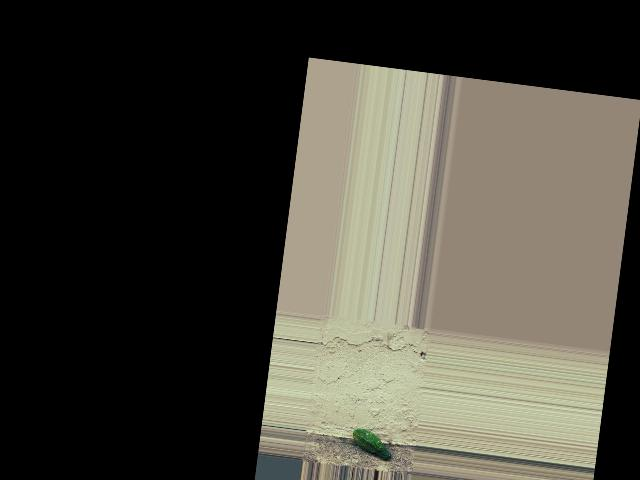cucumber: (349, 427, 393, 460)
